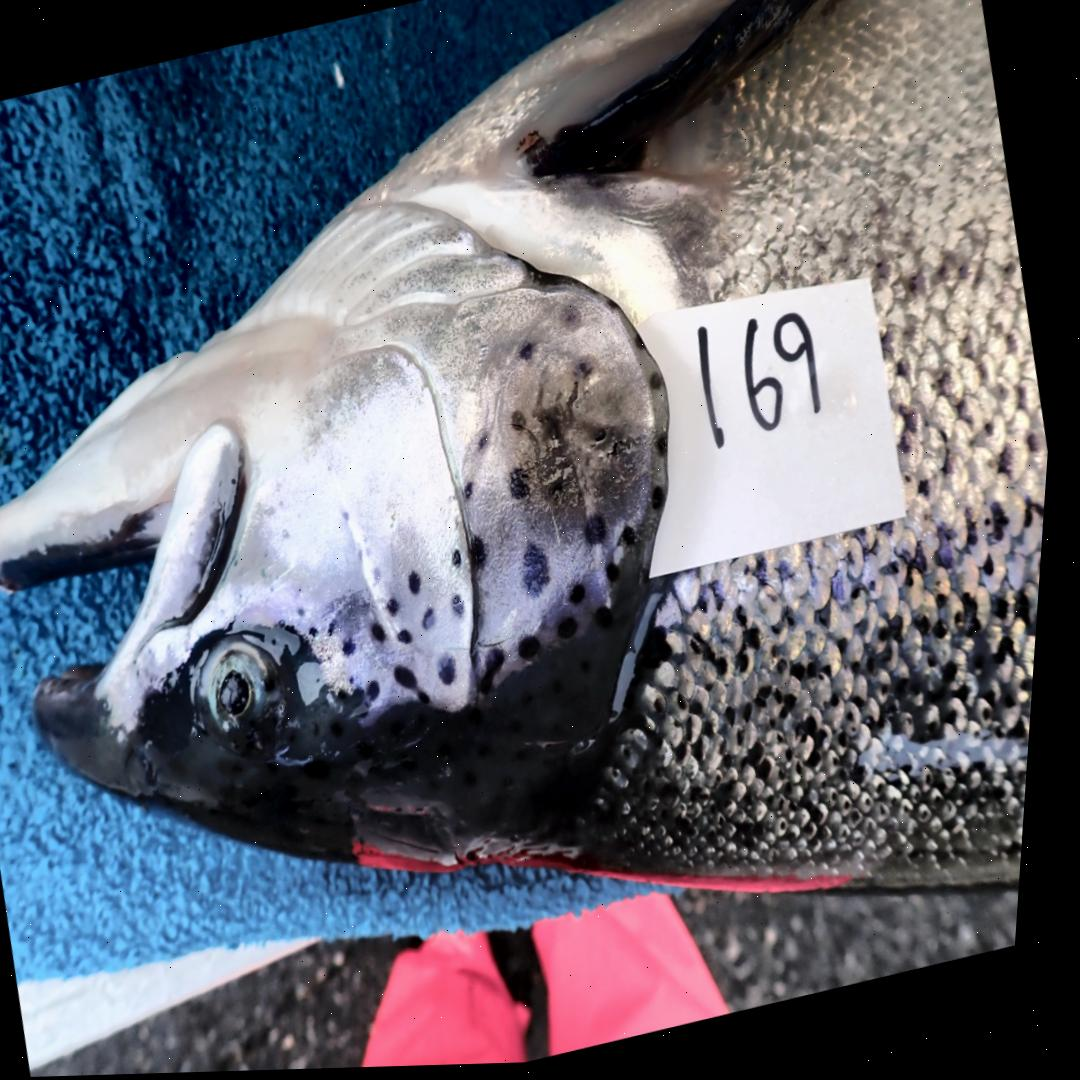spot: (599, 428, 641, 464), (531, 546, 558, 600), (404, 668, 440, 707), (489, 649, 516, 699), (558, 304, 596, 339), (546, 408, 576, 450), (549, 472, 581, 508), (516, 470, 538, 503), (592, 517, 614, 550), (657, 484, 675, 520), (579, 359, 603, 384), (404, 668, 427, 693), (479, 539, 496, 571), (448, 658, 466, 688), (527, 639, 549, 663), (654, 368, 672, 396), (566, 620, 587, 643), (625, 529, 645, 551), (523, 343, 542, 365), (375, 683, 391, 708), (577, 586, 595, 607), (661, 433, 675, 460), (416, 574, 430, 598), (517, 414, 533, 435), (613, 566, 629, 587), (430, 611, 445, 633), (267, 503, 285, 520), (334, 619, 346, 643), (460, 597, 473, 619), (483, 434, 495, 455), (267, 546, 281, 564), (351, 639, 364, 658), (381, 626, 394, 644), (395, 599, 407, 618), (407, 632, 422, 647), (470, 484, 481, 503), (316, 626, 328, 643), (379, 569, 390, 587), (266, 567, 278, 583), (460, 552, 470, 570), (349, 510, 359, 527), (329, 418, 342, 431), (330, 463, 342, 476), (282, 496, 293, 510), (289, 530, 299, 542), (304, 609, 315, 619), (245, 593, 254, 602), (277, 586, 284, 595), (359, 679, 363, 687)
